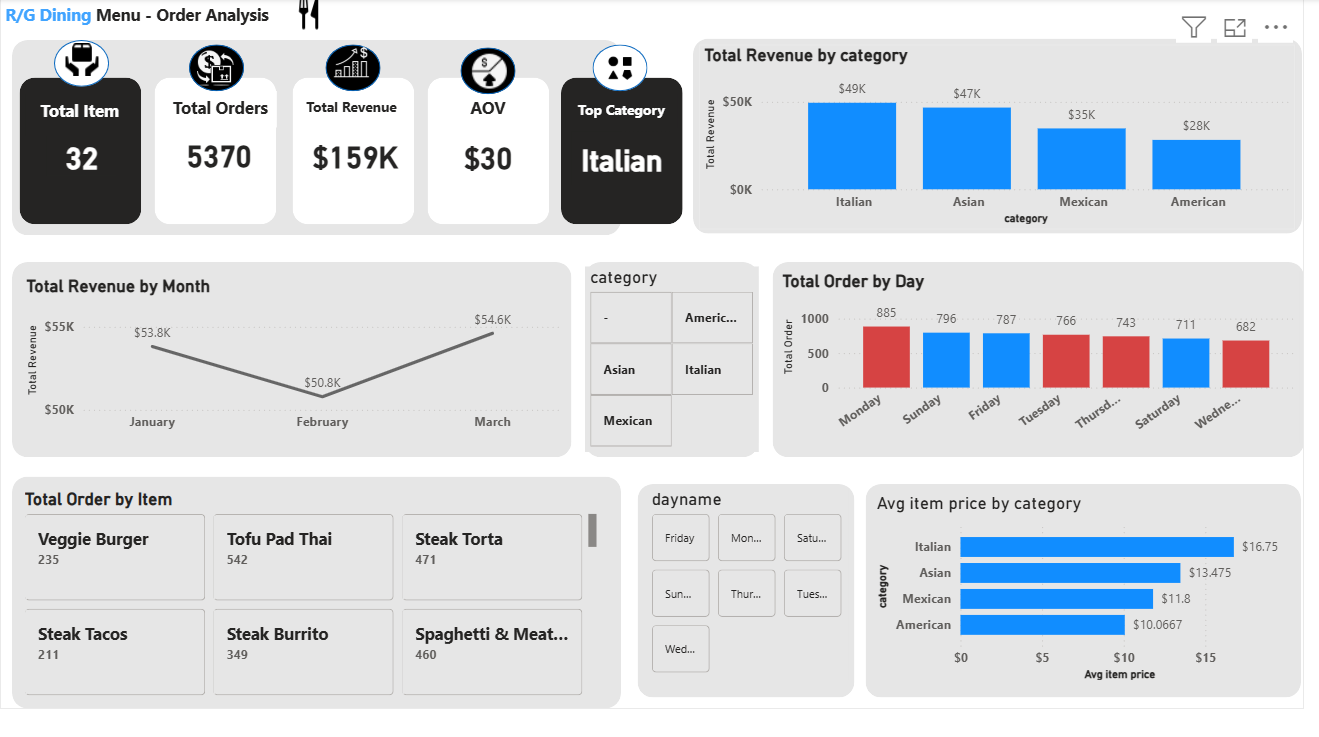

This screenshot's page, from the dashboard's own definition file:
{"tool":"powerbi","page":{"name":"Page 1","canvas":[1280,720],"ordinal":0},"visuals":[{"type":"shape","box":[11.3,40.5,591,189.4],"z":0,"group":"g7"},{"type":"shape","box":[19.4,77.7,118.2,142.5],"z":0,"group":"g4"},{"type":"shape","box":[150,77.7,118.2,142.5],"z":0,"group":"g3"},{"type":"shape","box":[284,77.7,118.2,142.5],"z":0,"group":"g2"},{"type":"shape","box":[415,77.7,118.2,142.5],"z":0,"group":"g6"},{"type":"shape","box":[544,77.7,118.2,142.5],"z":0,"group":"g5"},{"type":"textbox","box":[0,0,275.3,38.9],"z":1000,"group":"g7"},{"type":"card","fields":{"Values":["menu_items.Total Order"]},"box":[169.4,126.3,85.8,53.4],"z":1000,"group":"g3"},{"type":"card","fields":{"Values":["menu_items.AOV"]},"box":[421.5,129.5,105.2,48.6],"z":1000,"group":"g6"},{"type":"card","fields":{"Values":["menu_items.Total Revenue"]},"box":[292.1,131.1,103.6,43.7],"z":1000,"group":"g2"},{"type":"card","fields":{"Values":["menu_items.Total Menu Item"]},"box":[45.3,134.4,68,38.9],"z":1000,"group":"g4"},{"type":"textbox","box":[158.1,90.7,110.1,35.6],"z":2000,"group":"g3"},{"type":"textbox","box":[287.2,90.7,108.5,40.5],"z":2000,"group":"g2"},{"type":"textbox","box":[421.5,90.7,105.2,42.1],"z":2000,"group":"g6"},{"type":"textbox","box":[25.9,93.9,105.2,40.5],"z":2000,"group":"g4"},{"type":"textbox","box":[548.9,93.9,108.5,32.4],"z":2000,"group":"g5"},{"type":"shape","box":[840.4,471.2,422.6,207.3],"z":2000,"group":"g7"},{"type":"shape","box":[11.3,464.7,591,225.1],"z":3000,"group":"g7"},{"type":"shape","box":[749,256,516,189.4],"z":4000,"group":"g7"},{"type":"shape","box":[568.3,255.8,168.4,189.4],"z":5000,"group":"g7"},{"type":"shape","box":[672,38.9,591,189.4],"z":6000,"group":"g7"},{"type":"shape","box":[11.3,256,543,189.4],"z":7000,"group":"g7"},{"type":"group","id":"g1","title":"Group 2","box":[415,77.7,118.2,142.5],"z":8000,"group":"g7"},{"type":"group","id":"g2","title":"Group 3","box":[284,77.7,118.2,142.5],"z":9000,"group":"g7"},{"type":"group","id":"g3","title":"Group 4","box":[150,77.7,118.2,142.5],"z":10000,"group":"g7"},{"type":"group","id":"g4","title":"Group 5","box":[19.4,77.7,118.2,142.5],"z":11000,"group":"g7"},{"type":"group","id":"g5","title":"Group 1","box":[544,77.7,118.2,142.5],"z":12000,"group":"g7"},{"type":"group","id":"g6","title":"Group 6","box":[415,77.7,118.2,142.5],"z":12001,"group":"g1"},{"type":"card","fields":{"Values":["menu_items.Top Category"]},"box":[553.8,129.5,97.2,51.8],"z":12001,"group":"g5"},{"type":"clusteredColumnChart","fields":{"Y":["menu_items.Total Revenue"],"Category":["menu_items.category"]},"box":[678.3,45,578.3,179.2],"z":13000,"group":"g7"},{"type":"advancedSlicerVisual","fields":{"Values":["menu_items.item_name"],"Label":["menu_items.Total Order"]},"box":[19.4,476.1,565.1,207.3],"z":14000,"group":"g7"},{"type":"lineChart","fields":{"Y":["menu_items.Total Revenue"],"Category":["order_details.order_date.Variation.Date Hierarchy.Month"]},"box":[20,270,528.3,160],"z":15000,"group":"g7"},{"type":"columnChart","title":"Total Order by Day","fields":{"Category":["order_details.dayname"],"Y":["menu_items.Total Order"]},"box":[754,265.6,506.8,166.8],"z":16000,"group":"g7"},{"type":"advancedSlicerVisual","fields":{"Values":["menu_items.category"]},"box":[568.3,260.7,168.4,179.7],"z":17000,"group":"g7"},{"type":"shape","box":[618.5,471.2,210.5,207.3],"z":18000,"group":"g7"},{"type":"advancedSlicerVisual","fields":{"Values":["order_details.dayname"]},"box":[626.6,476.1,195.9,186.2],"z":19000,"group":"g7"},{"type":"barChart","fields":{"Category":["menu_items.category"],"Y":["menu_items.Average Revenue"]},"box":[845.2,480.9,411.3,186.2],"z":20000,"group":"g7"},{"type":"image","box":[268.8,0,61.5,30.8],"z":21000,"group":"g7"},{"type":"shape","box":[315.7,45.3,53.4,45.3],"z":22000,"group":"g7"},{"type":"image","box":[322.2,30.8,38.9,63.1],"z":23000,"group":"g7"},{"type":"shape","box":[183,45.3,53.4,45.3],"z":24000,"group":"g7"},{"type":"shape","box":[51.8,40.5,53.4,45.3],"z":25000,"group":"g7"},{"type":"shape","box":[446.9,48.6,53.4,45.3],"z":26000,"group":"g7"},{"type":"shape","box":[574.8,45.3,53.4,45.3],"z":27000,"group":"g7"},{"type":"group","id":"g7","title":"Group 7","box":[0,0,1265,689.8],"z":27005},{"type":"image","box":[173.3,50.2,71.2,35.6],"z":28000,"group":"g7"},{"type":"image","box":[455,43.7,38.9,55.1],"z":29000,"group":"g7"},{"type":"image","box":[582.9,55.1,38.9,25.9],"z":30000,"group":"g7"},{"type":"image","box":[58.3,43.7,43,32],"z":31000,"group":"g7"}]}

Visuals, with their boxes in screenshot pixels (x1, y1, x2, y2), scaled from the page's 1280x720 canvas onto the 1319x737 screenshot:
shape: bbox(12, 41, 621, 235)
shape: bbox(20, 80, 142, 225)
shape: bbox(155, 80, 276, 225)
shape: bbox(293, 80, 414, 225)
shape: bbox(428, 80, 549, 225)
shape: bbox(561, 80, 682, 225)
textbox: bbox(0, 0, 284, 40)
card - menu_items.Total Order: bbox(175, 129, 263, 184)
card - menu_items.AOV: bbox(434, 133, 543, 182)
card - menu_items.Total Revenue: bbox(301, 134, 408, 179)
card - menu_items.Total Menu Item: bbox(47, 138, 117, 177)
textbox: bbox(163, 93, 276, 129)
textbox: bbox(296, 93, 408, 134)
textbox: bbox(434, 93, 543, 136)
textbox: bbox(27, 96, 135, 138)
textbox: bbox(566, 96, 677, 129)
shape: bbox(866, 482, 1301, 695)
shape: bbox(12, 476, 621, 706)
shape: bbox(772, 262, 1304, 456)
shape: bbox(586, 262, 759, 456)
shape: bbox(692, 40, 1301, 234)
shape: bbox(12, 262, 571, 456)
"Group 2" group: bbox(428, 80, 549, 225)
"Group 3" group: bbox(293, 80, 414, 225)
"Group 4" group: bbox(155, 80, 276, 225)
"Group 5" group: bbox(20, 80, 142, 225)
"Group 1" group: bbox(561, 80, 682, 225)
"Group 6" group: bbox(428, 80, 549, 225)
card - menu_items.Top Category: bbox(571, 133, 671, 186)
clusteredColumnChart - menu_items.Total Revenue x menu_items.category: bbox(699, 46, 1295, 229)
advancedSlicerVisual - menu_items.item_name x menu_items.Total Order: bbox(20, 487, 602, 700)
lineChart - menu_items.Total Revenue x order_details.order_date.Variation.Date Hierarchy.Month: bbox(21, 276, 565, 440)
"Total Order by Day" columnChart: bbox(777, 272, 1299, 443)
advancedSlicerVisual - menu_items.category: bbox(586, 267, 759, 451)
shape: bbox(637, 482, 854, 695)
advancedSlicerVisual - order_details.dayname: bbox(646, 487, 848, 678)
barChart - menu_items.category x menu_items.Average Revenue: bbox(871, 492, 1295, 683)
image: bbox(277, 0, 340, 32)
shape: bbox(325, 46, 380, 93)
image: bbox(332, 32, 372, 96)
shape: bbox(189, 46, 244, 93)
shape: bbox(53, 41, 108, 88)
shape: bbox(461, 50, 516, 96)
shape: bbox(592, 46, 647, 93)
"Group 7" group: bbox(0, 0, 1304, 706)
image: bbox(179, 51, 252, 88)
image: bbox(469, 45, 509, 101)
image: bbox(601, 56, 641, 83)
image: bbox(60, 45, 104, 77)
